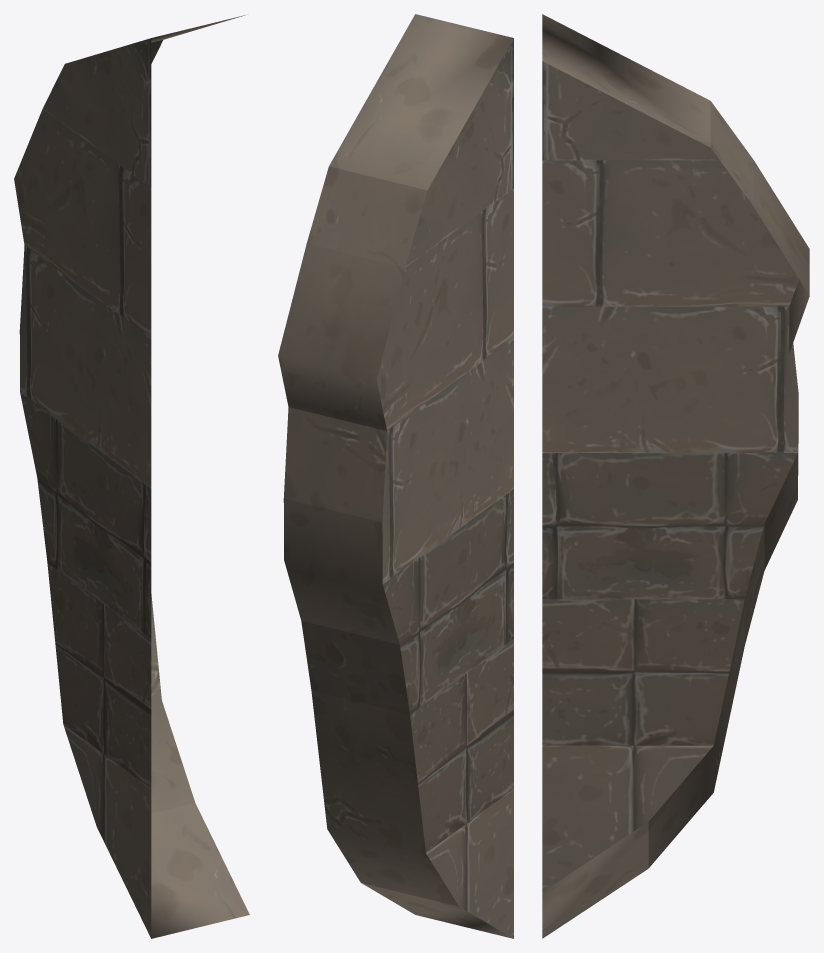
The model's file is Ruins_BaseWall_Broken_07.fbx.
3 renders of one model, left to right at view 1: azimuth 30°, elevation 25°; view 2: azimuth 150°, elevation 25°; view 3: azimuth 270°, elevation 25°, orthographic. The views are drawn at different scales.
Visible parts, largest first — view 1: Ruins_BaseWall_Broken_07; view 2: Ruins_BaseWall_Broken_07; view 3: Ruins_BaseWall_Broken_07.
Boxes of the visible parts, <box> form: Ruins_BaseWall_Broken_07: <box>14,15,249,938</box>; Ruins_BaseWall_Broken_07: <box>278,14,513,938</box>; Ruins_BaseWall_Broken_07: <box>542,14,809,938</box>.
Size of the model in its own units: 0.5 by 4.36 by 1.21.
Materials: 1 (1 with a texture image).
